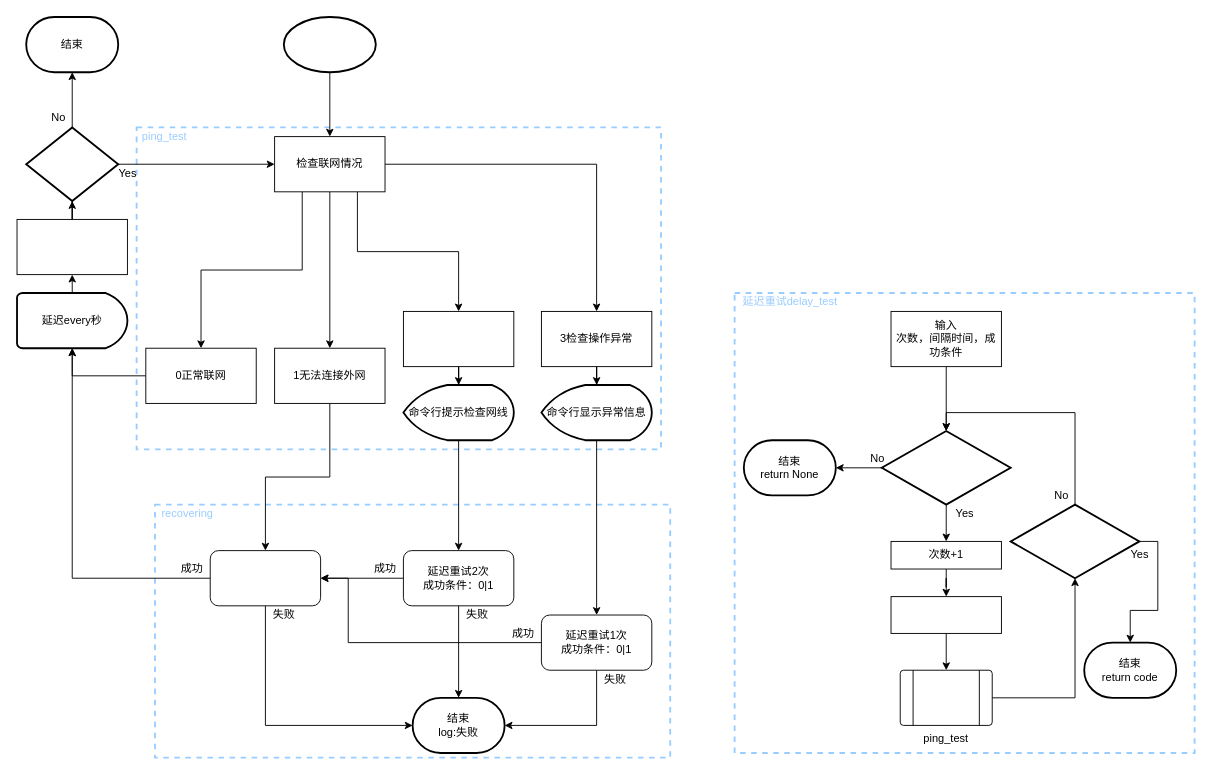
Some shapes in this 1211 by 774 pixel diagram are drawn without their labels. The shapes that lost their labels are listed below. From the top down, each one's box as (x1, y1, x2, y2) in pixels, then its label:
(282, 16, 376, 73): 启动watch
(25, 126, 119, 201): count <= n?
(16, 218, 127, 275): count++
(402, 310, 514, 367): 2网线已断开
(880, 430, 1011, 505): 次数<=总次数?
(1009, 503, 1140, 579): 满足条件？
(209, 550, 321, 606): 延迟重试5次 成功条件：0
(890, 596, 1001, 633): restart
